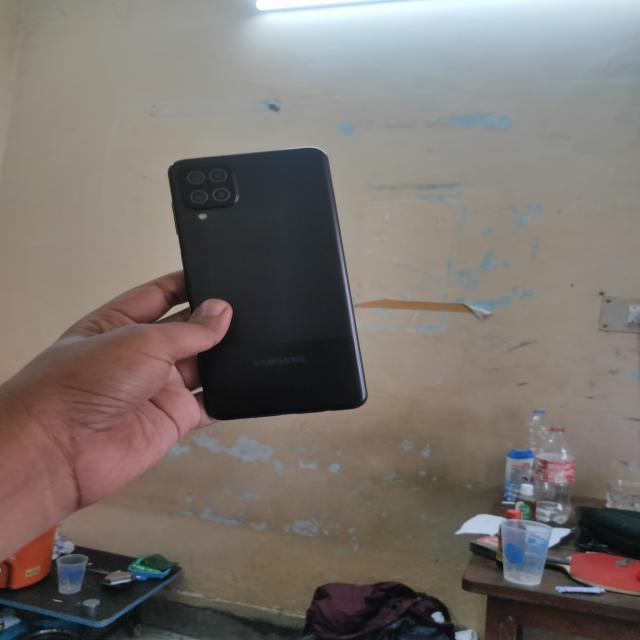Phone: (162, 142, 378, 426)
